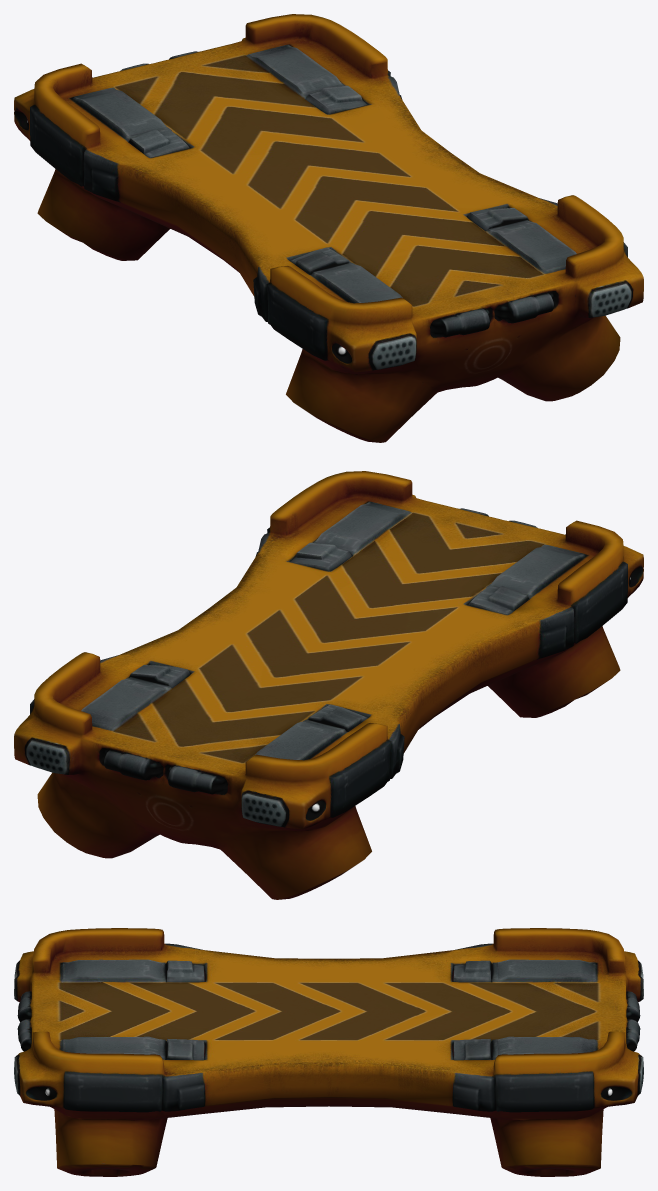
Rendered from platform_LOD0.fbx.
3 views of the same model, one above another, from view 1: azimuth 30°, elevation 25°; view 2: azimuth 150°, elevation 25°; view 3: azimuth 270°, elevation 25° (orthographic). The views are drawn at different scales.
Parts seen in each view (by area): view 1: EV_Platform; view 2: EV_Platform; view 3: EV_Platform.
Part boxes in pixels (left/top/right/bottom): EV_Platform: left=14, top=14, right=643, bottom=442; EV_Platform: left=14, top=471, right=643, bottom=899; EV_Platform: left=14, top=928, right=643, bottom=1176.
Size of the model in its own units: 6.64 by 3.21 by 12.66.
